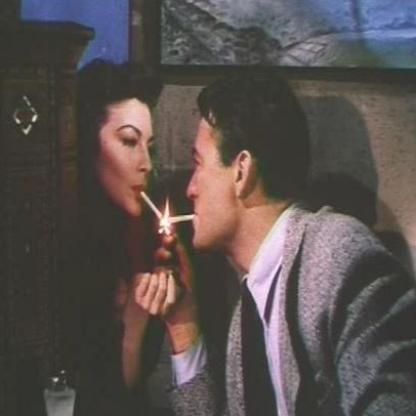cigarette: (140, 188, 164, 224), (165, 211, 199, 230)
person: (183, 84, 415, 415), (68, 58, 168, 220)
